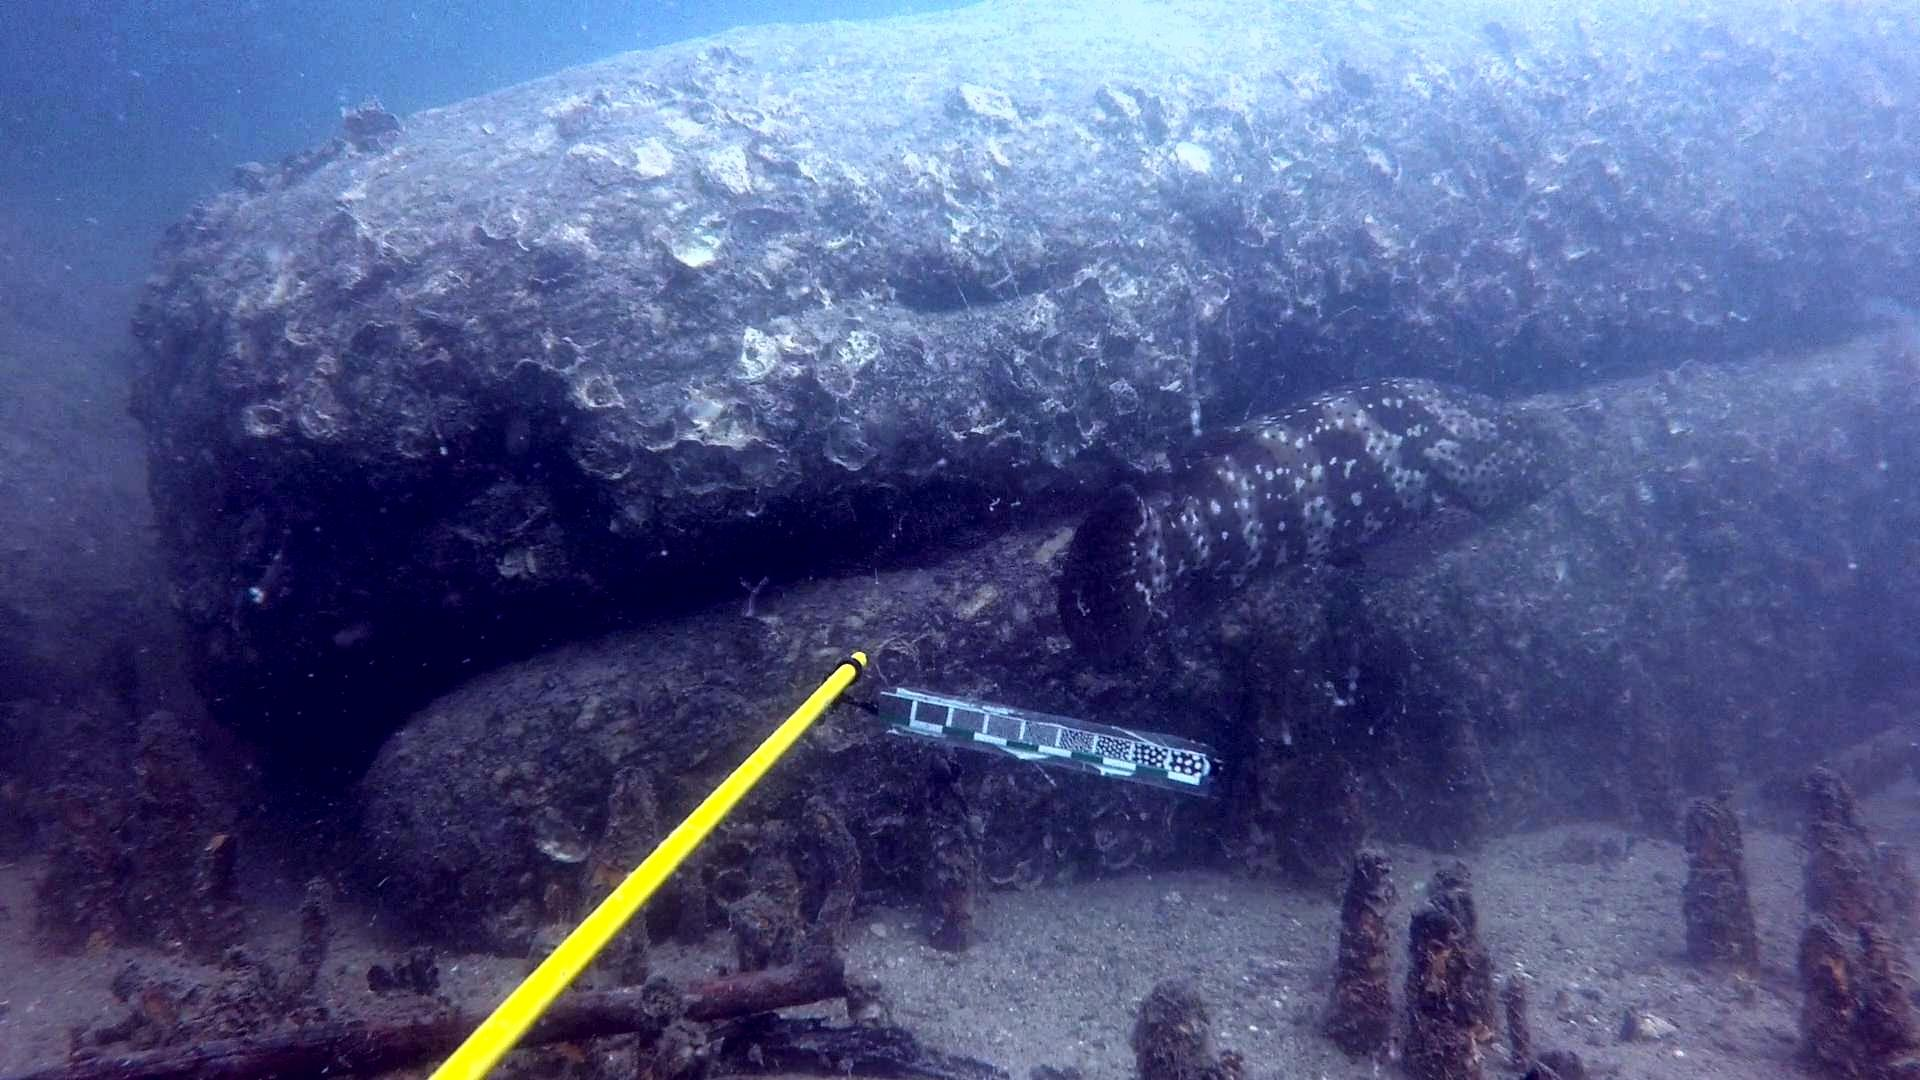epinephelus: (1056, 375, 1561, 671)
